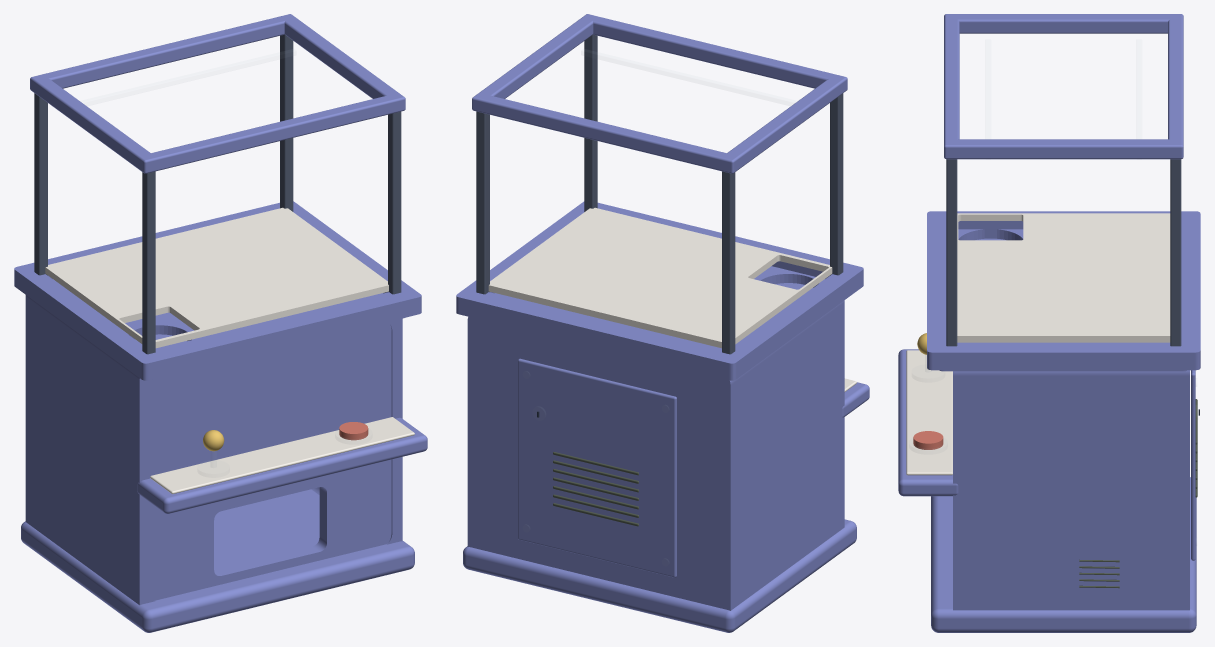
File: machine-sky-study.prefab.glb
3 renders of one model, left to right at view 1: azimuth 30°, elevation 25°; view 2: azimuth 150°, elevation 25°; view 3: azimuth 270°, elevation 25°, orthographic. The views are drawn at different scales.
Parts seen in each view (by area): view 1: CabinetShell_Batch0; view 2: CabinetShell_Batch0; view 3: CabinetShell_Batch0, ClawButton_Batch1.
Boxes of the visible parts, box(x1,y1,x2,y2) form: CabinetShell_Batch0: box(14, 14, 427, 632); CabinetShell_Batch0: box(456, 14, 869, 632); CabinetShell_Batch0: box(898, 14, 1200, 632); ClawButton_Batch1: box(913, 431, 943, 449).
Size of what is drawn, in the model's own units: 0.257 by 0.428 by 0.232.
2 materials, 2 textured.
